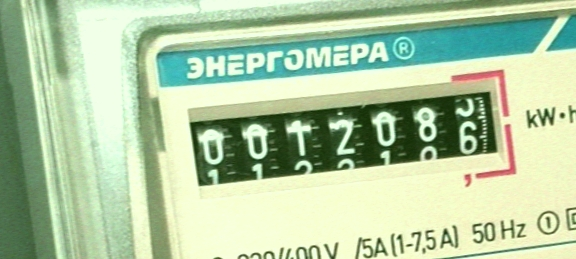0: (239, 117, 273, 162), (196, 122, 226, 167), (370, 106, 398, 148)
1: (284, 114, 312, 158)
2: (328, 114, 358, 156)
6: (451, 116, 480, 155)
8: (412, 101, 439, 144)
screen: (175, 46, 531, 233)
